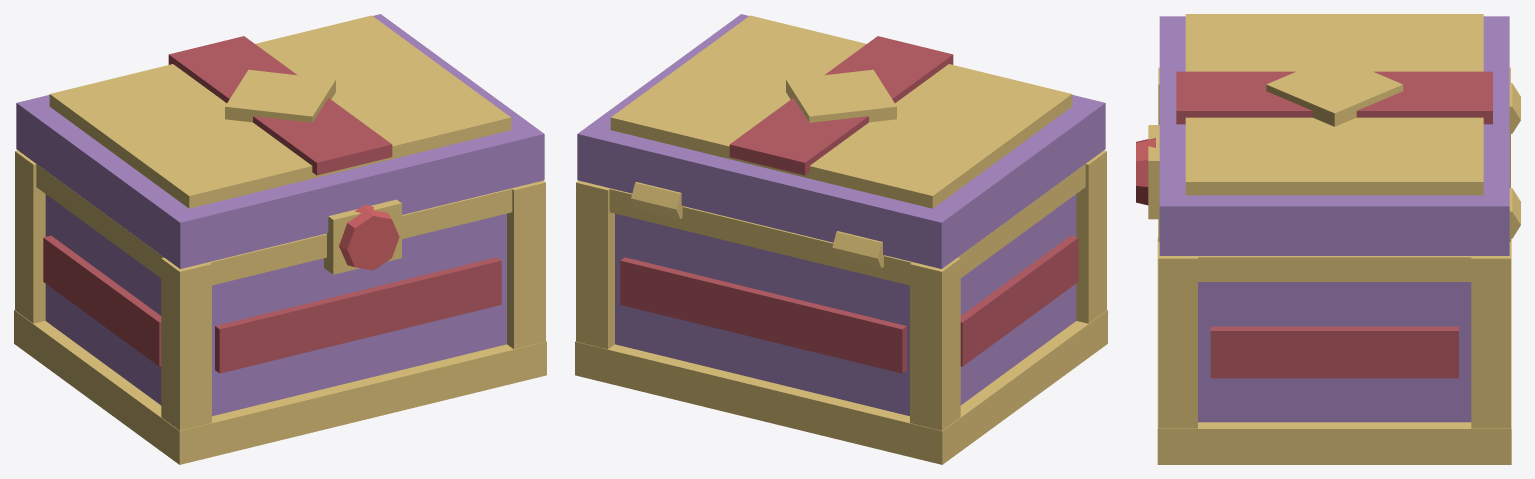
3 renders of one model, left to right at view 1: azimuth 30°, elevation 25°; view 2: azimuth 150°, elevation 25°; view 3: azimuth 270°, elevation 25°, orthographic. The views are drawn at different scales.
Visible parts, largest first — view 1: BoxBody, LidPivot, SealPart; view 2: BoxBody, LidPivot; view 3: LidPivot, BoxBody, SealPart.
Boxes of the visible parts, x1=… form: BoxBody: x1=14, y1=150, x2=546, y2=464; LidPivot: x1=16, y1=14, x2=544, y2=268; SealPart: x1=324, y1=199, x2=401, y2=274; BoxBody: x1=575, y1=150, x2=1107, y2=464; LidPivot: x1=577, y1=14, x2=1105, y2=268; LidPivot: x1=1159, y1=14, x2=1509, y2=255; BoxBody: x1=1157, y1=67, x2=1520, y2=464; SealPart: x1=1136, y1=125, x2=1159, y2=219.
Bounding box in the file's own units: 0.365 × 0.253 × 0.31.
